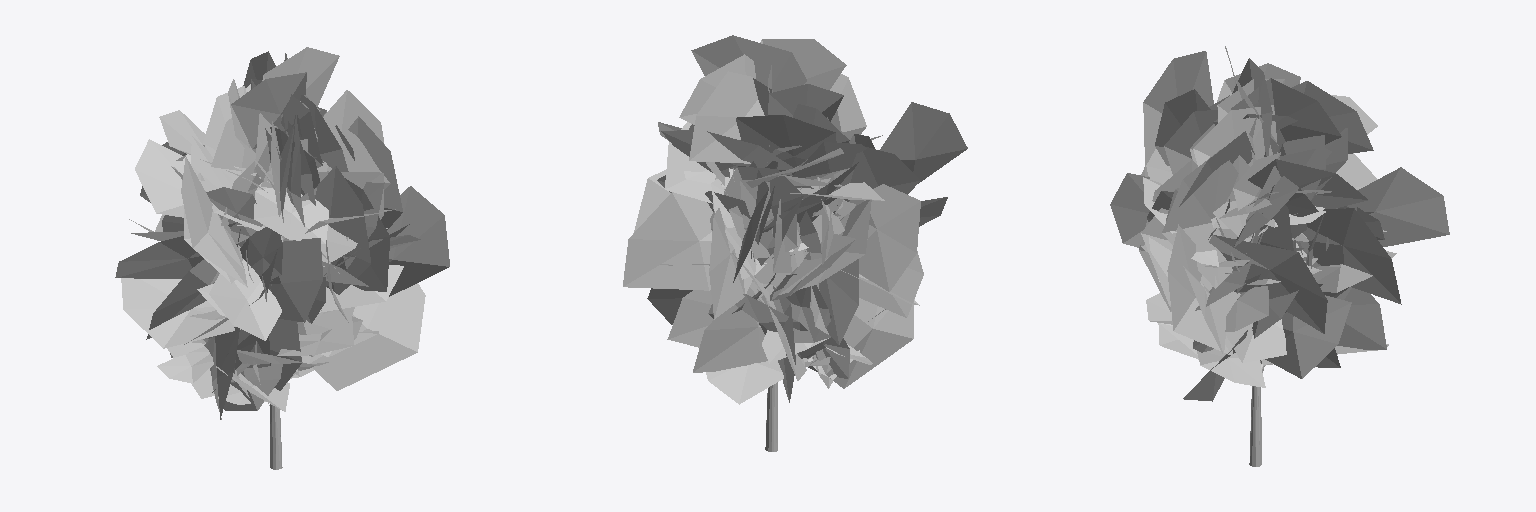
Rendered from tree4.obj.
The picture shows the model from 3 angles: view 1: azimuth 30°, elevation 25°; view 2: azimuth 150°, elevation 25°; view 3: azimuth 270°, elevation 25°; orthographic projection.
Parts seen in each view (by area): view 1: 2; view 2: 2; view 3: 2.
Part boxes in pixels (bbox=[...]): 2: bbox=[115, 47, 449, 469]; 2: bbox=[623, 35, 967, 451]; 2: bbox=[1110, 46, 1449, 466].
Bounding box in the file's own units: 7.52 × 10.26 × 7.73.